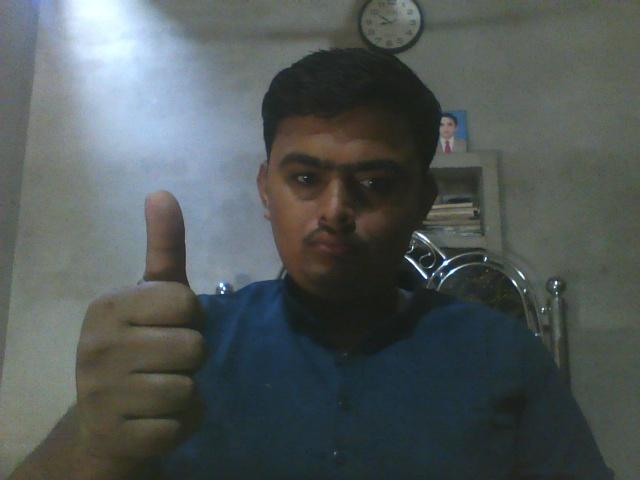Yes: (65, 154, 229, 457)
